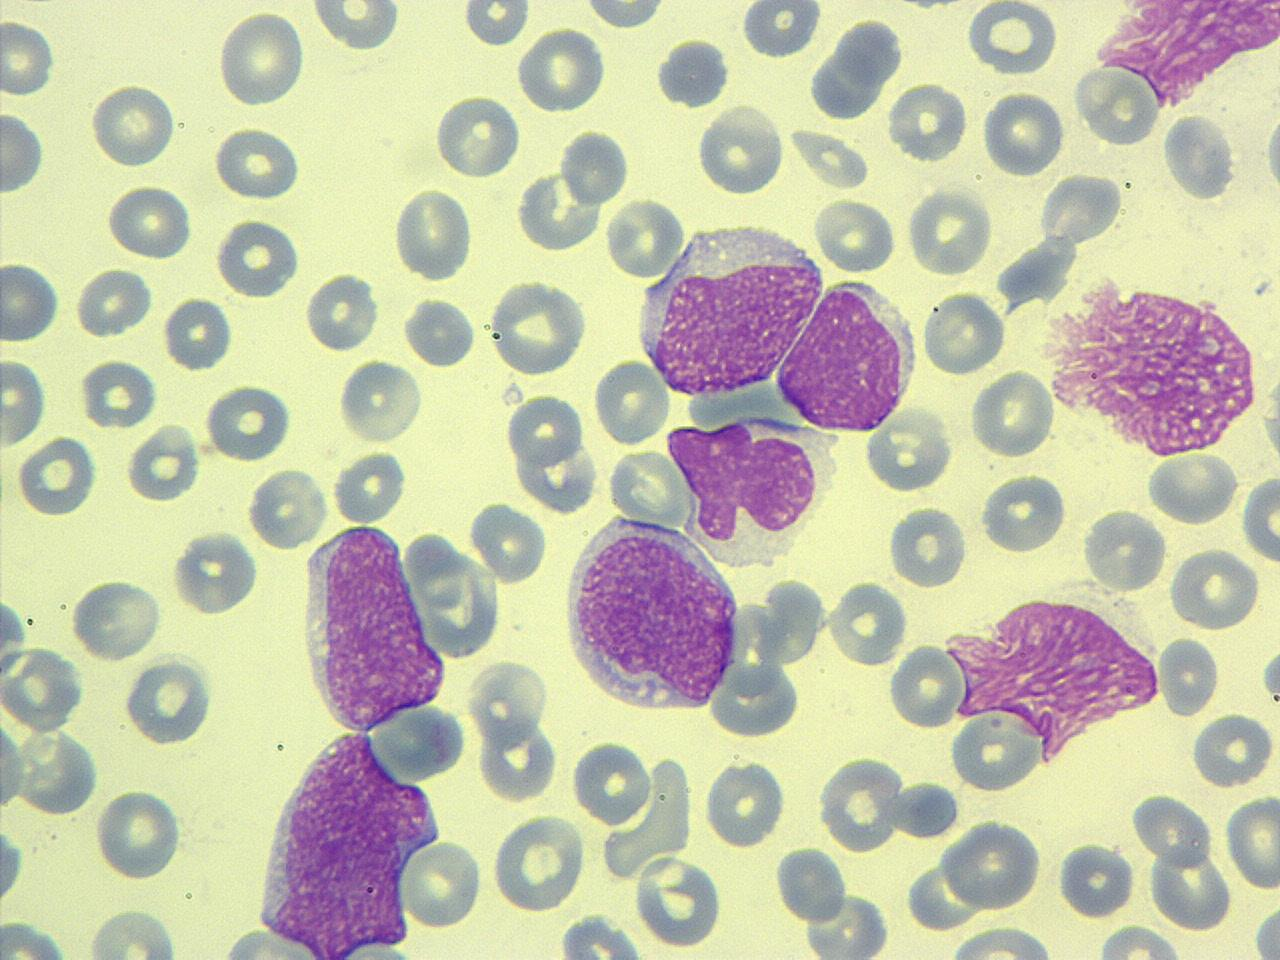Platelets: (656, 36, 732, 110)
RBC: (0, 0, 396, 295), (491, 810, 586, 914), (939, 818, 1041, 914), (216, 7, 308, 112), (490, 278, 588, 377), (860, 402, 956, 497), (694, 99, 786, 199), (92, 784, 182, 883), (632, 852, 726, 948), (124, 652, 216, 746), (87, 78, 177, 172), (820, 752, 904, 854), (1168, 542, 1262, 632), (906, 183, 994, 279), (516, 24, 608, 116), (68, 575, 164, 662), (1146, 839, 1234, 934), (391, 184, 473, 284), (971, 366, 1056, 462), (1079, 503, 1169, 594), (433, 89, 522, 181), (920, 284, 1008, 377), (568, 734, 655, 828), (337, 355, 426, 445), (981, 86, 1066, 179), (700, 756, 786, 850), (1144, 446, 1242, 527), (886, 500, 972, 593), (214, 213, 302, 302), (398, 838, 484, 930), (174, 526, 259, 618), (828, 575, 910, 670), (211, 121, 304, 203), (592, 354, 672, 449), (706, 658, 800, 738), (604, 446, 694, 528), (204, 381, 294, 464), (468, 496, 548, 588), (247, 464, 331, 551), (889, 638, 966, 732), (1, 645, 84, 732), (1189, 708, 1277, 790), (887, 77, 969, 164), (964, 2, 1059, 77), (16, 435, 100, 518), (604, 193, 684, 278), (126, 418, 204, 507), (1054, 838, 1138, 920), (106, 181, 191, 260), (811, 196, 898, 274), (1130, 789, 1214, 867), (1036, 169, 1122, 247), (303, 268, 380, 354), (504, 389, 584, 468), (331, 446, 408, 526), (78, 356, 158, 432), (73, 264, 153, 340), (1154, 631, 1222, 719), (400, 293, 477, 370), (772, 846, 848, 924), (82, 904, 185, 960), (558, 125, 630, 207), (1223, 790, 1280, 890), (161, 293, 235, 372), (654, 37, 732, 110), (196, 926, 360, 960), (0, 258, 62, 343), (739, 0, 823, 61), (309, 0, 402, 54), (0, 15, 58, 100), (0, 354, 51, 450), (552, 910, 650, 958), (0, 105, 47, 197), (944, 924, 1061, 960), (1241, 468, 1279, 568), (460, 0, 532, 50), (1093, 922, 1187, 960), (0, 917, 74, 958), (578, 0, 666, 32), (1, 719, 28, 815)
WBC: (694, 0, 1280, 298), (246, 726, 449, 954), (1034, 272, 1276, 458), (558, 512, 749, 712), (630, 212, 827, 399), (295, 520, 456, 734), (759, 258, 926, 434), (660, 405, 840, 566), (1085, 0, 1280, 107), (654, 35, 732, 112)
